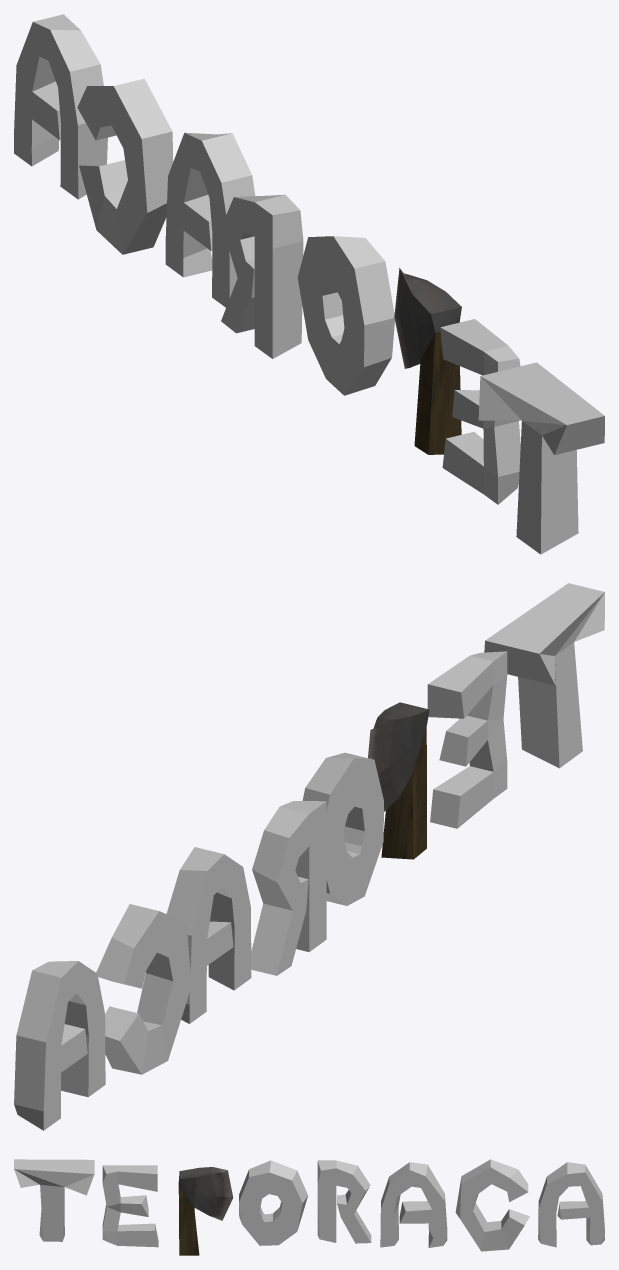
Rendered from Title.obj.
3 views of the same model, one above another, from view 1: azimuth 30°, elevation 25°; view 2: azimuth 150°, elevation 25°; view 3: azimuth 270°, elevation 25° (orthographic). The views are drawn at different scales.
Visible parts, largest first — view 1: Cube; view 2: Cube; view 3: Cube.
Part boxes in pixels (x1,y1,x2,y2): Cube: (14,14,604,554); Cube: (14,583,604,1130); Cube: (14,1159,604,1255).
Bounding box in the file's own units: 4.86 × 10.19 × 63.75.
3 materials, 2 textured.
